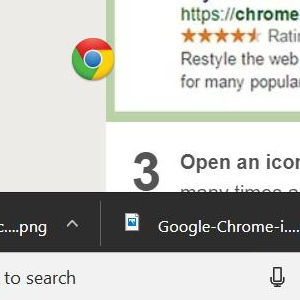chrome: (71, 37, 115, 81)
